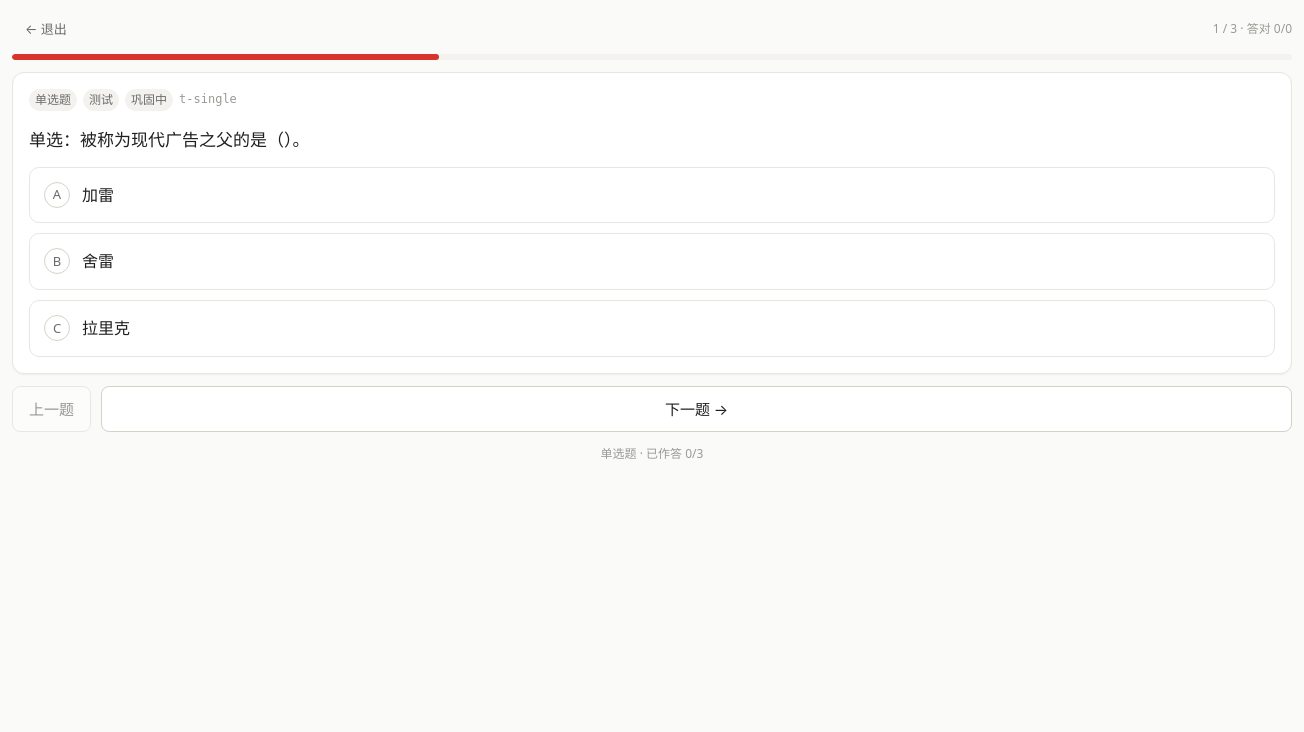
答题流程 · 下一题推进 › 上一题可回退，且回退后仍能前进（来回切换不丢状态）
Click the button "下一题 →" at [696, 408], box [101,386,1292,432]
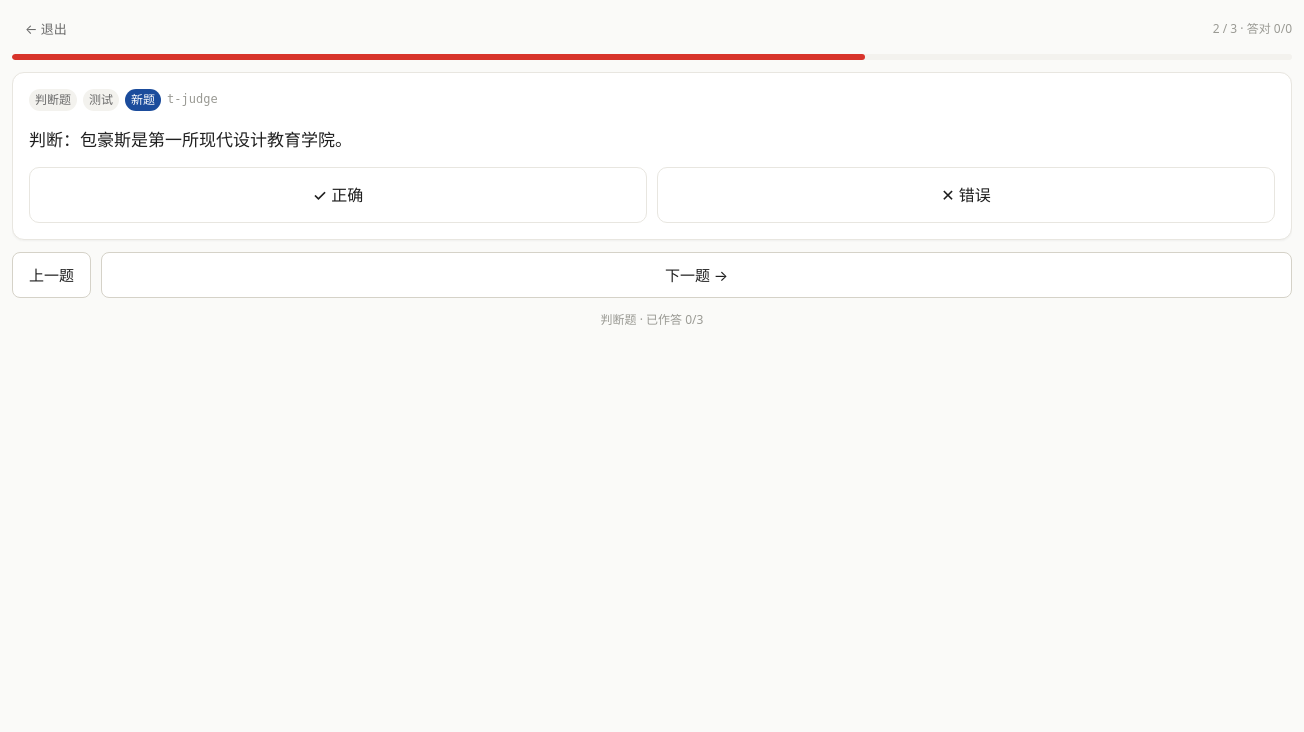
expect the text "2 / 3 · 答对 0/0" is shown: met, box [1213,19,1292,39]
Click the button "上一题" at [52, 275], box [12,252,91,298]
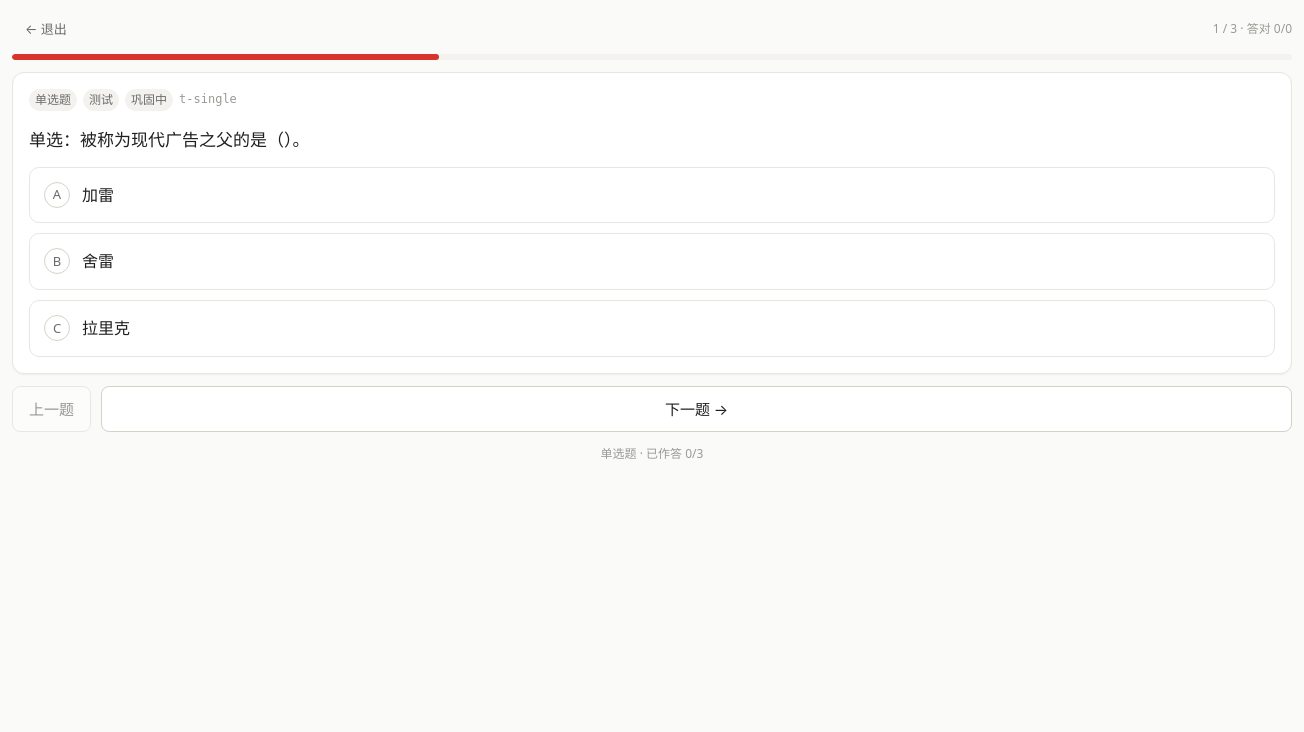
expect the text "1 / 3 · 答对 0/0" is shown: met, box [1213,19,1292,39]
Click the button "下一题 →" at [696, 408], box [101,386,1292,432]
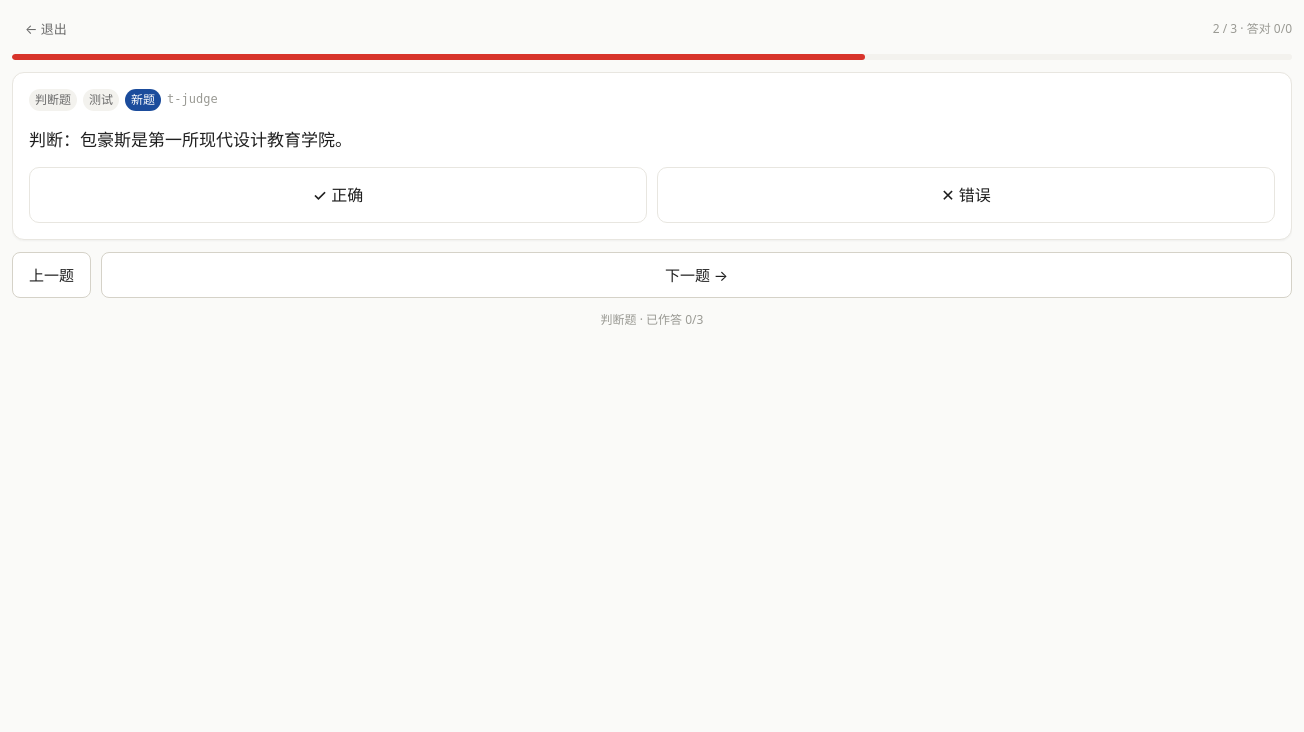
expect the text "2 / 3 · 答对 0/0" is shown: met, box [1213,19,1292,39]
Click the button "下一题 →" at [696, 275], box [101,252,1292,298]
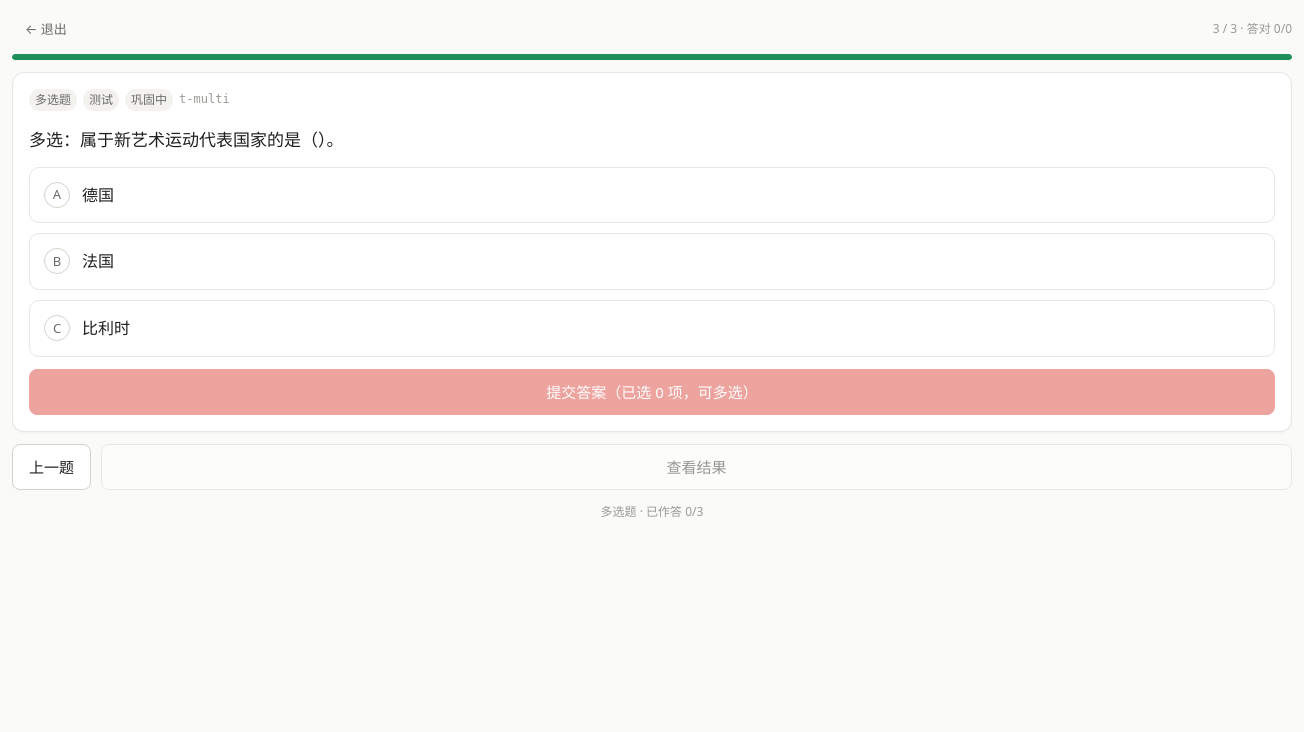
expect the text "3 / 3 · 答对 0/0" is shown: met, box [1213,19,1292,39]
